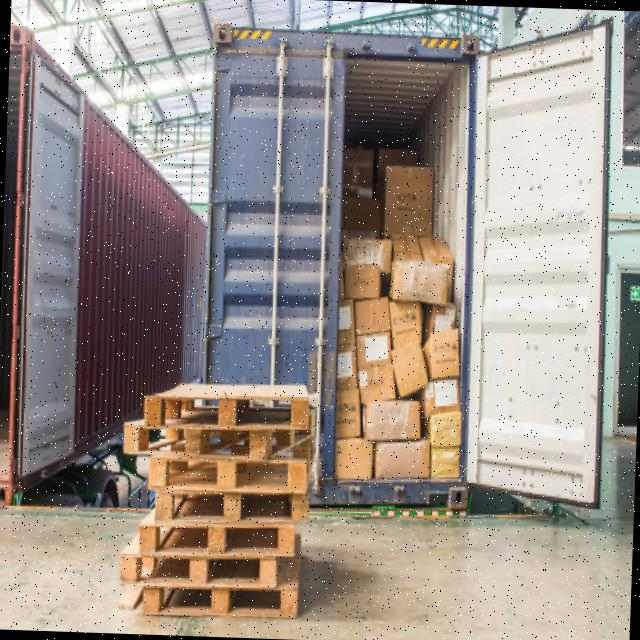Wooden-Pallets: (141, 385, 314, 436), (116, 419, 306, 464), (134, 582, 300, 626), (111, 549, 280, 592), (134, 518, 298, 562), (143, 452, 309, 495), (150, 489, 309, 526)
